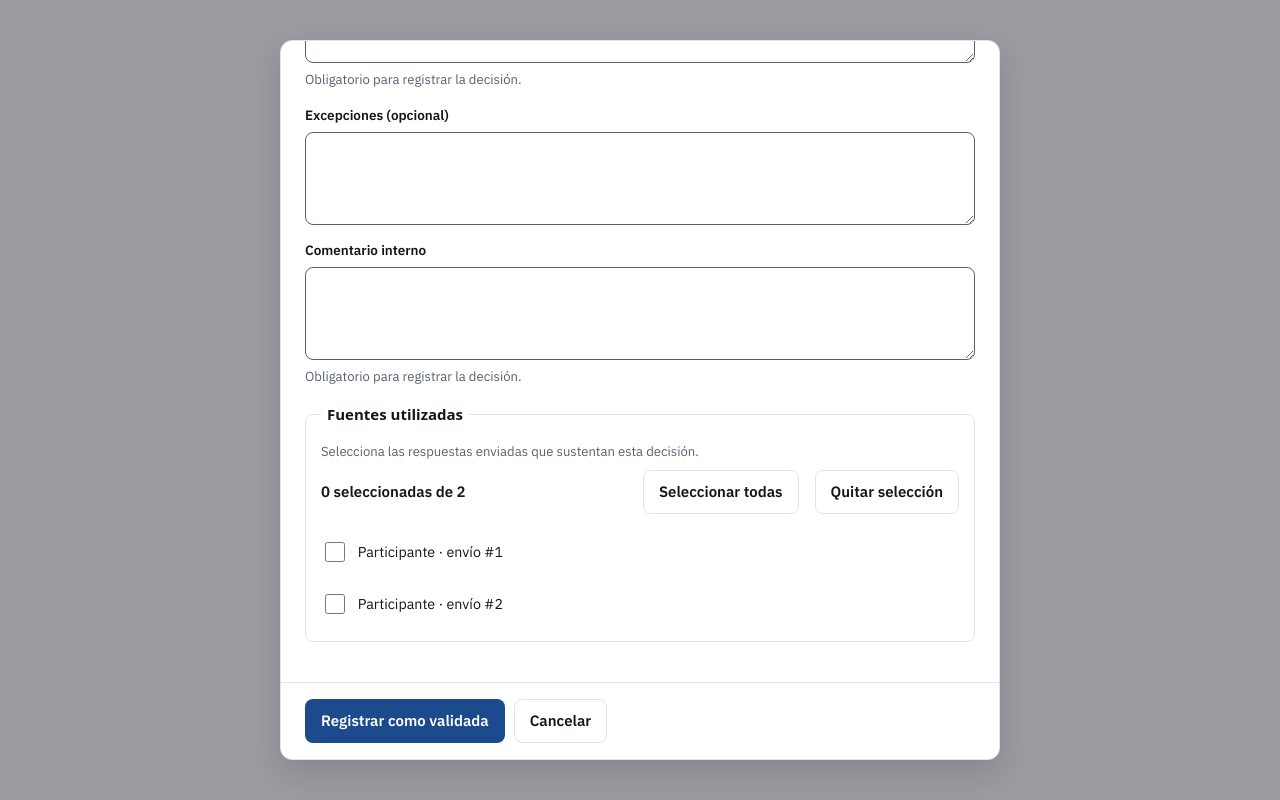
it: con dos respuestas no se preselecciona ninguna y se pueden seleccionar todas
(page scrolled)
Expected: the number of checkboxes labelled "Participante · envío #1" is 2, [325, 542, 345, 562]; [325, 594, 345, 614]
Expected: the checkbox labelled "Participante · envío #1" is not checked, [325, 542, 345, 562]
Click the button "Seleccionar todas".
click(721, 492)  # box [643, 470, 799, 514]
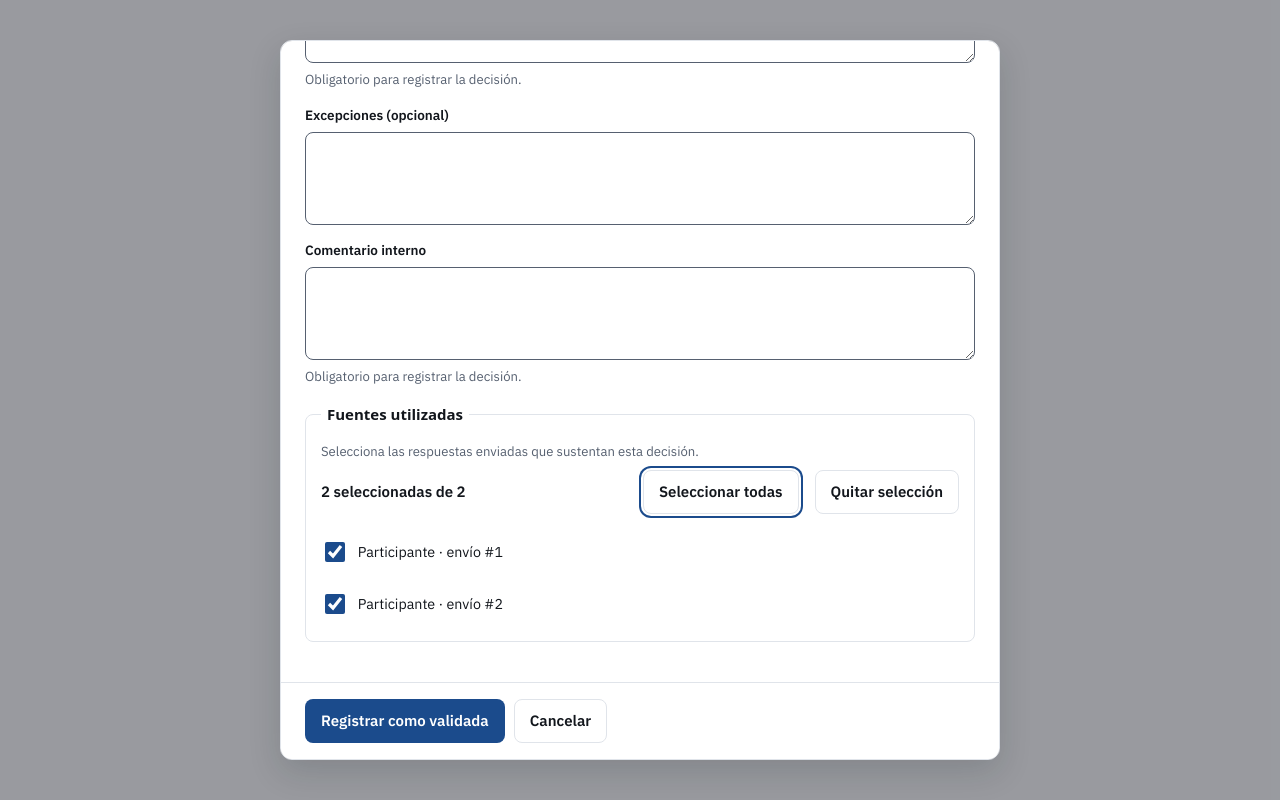
Expected: the checkbox labelled "Participante · envío #1" is checked, [325, 542, 345, 562]
Expected: the checkbox labelled "Participante · envío #2" is checked, [325, 594, 345, 614]
Click the button "Quitar selección".
click(887, 492)  # box [815, 470, 959, 514]
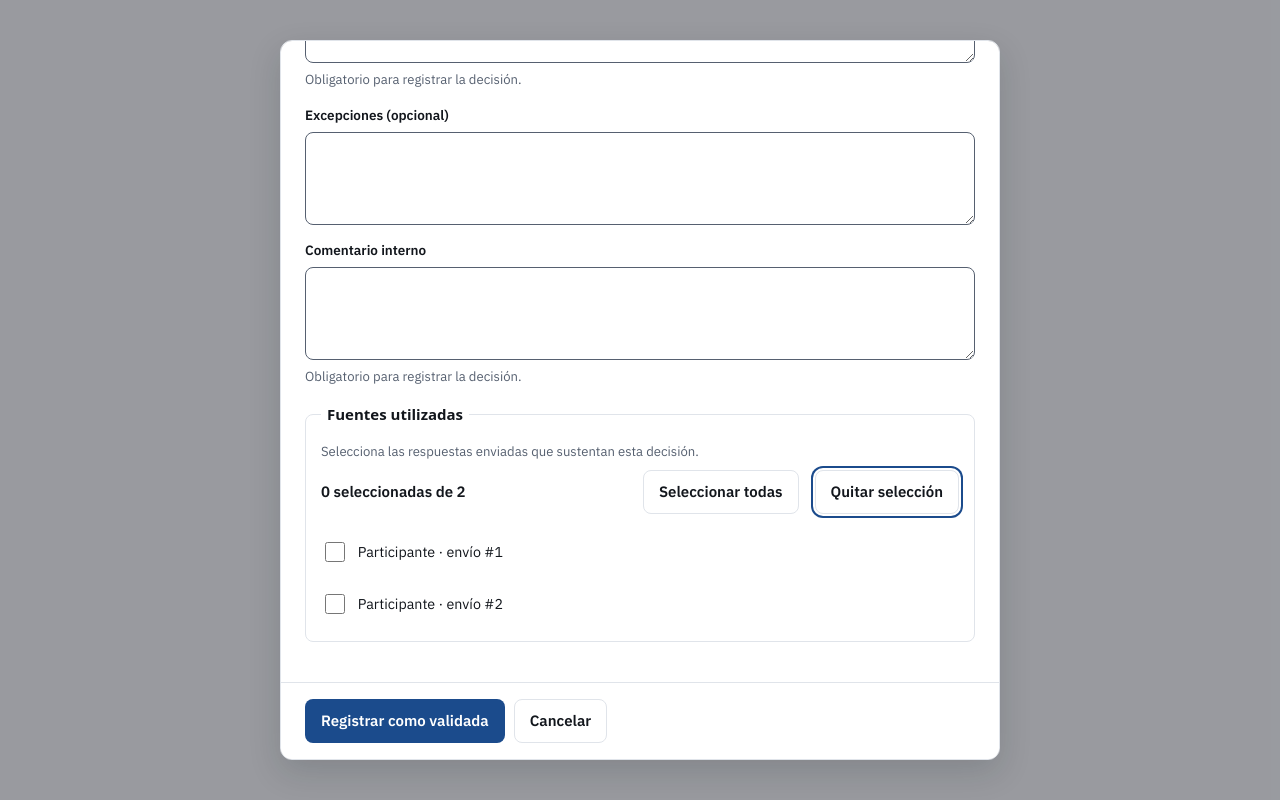
Expected: the checkbox labelled "Participante · envío #1" is not checked, [325, 542, 345, 562]
Expected: the checkbox labelled "Participante · envío #2" is not checked, [325, 594, 345, 614]
